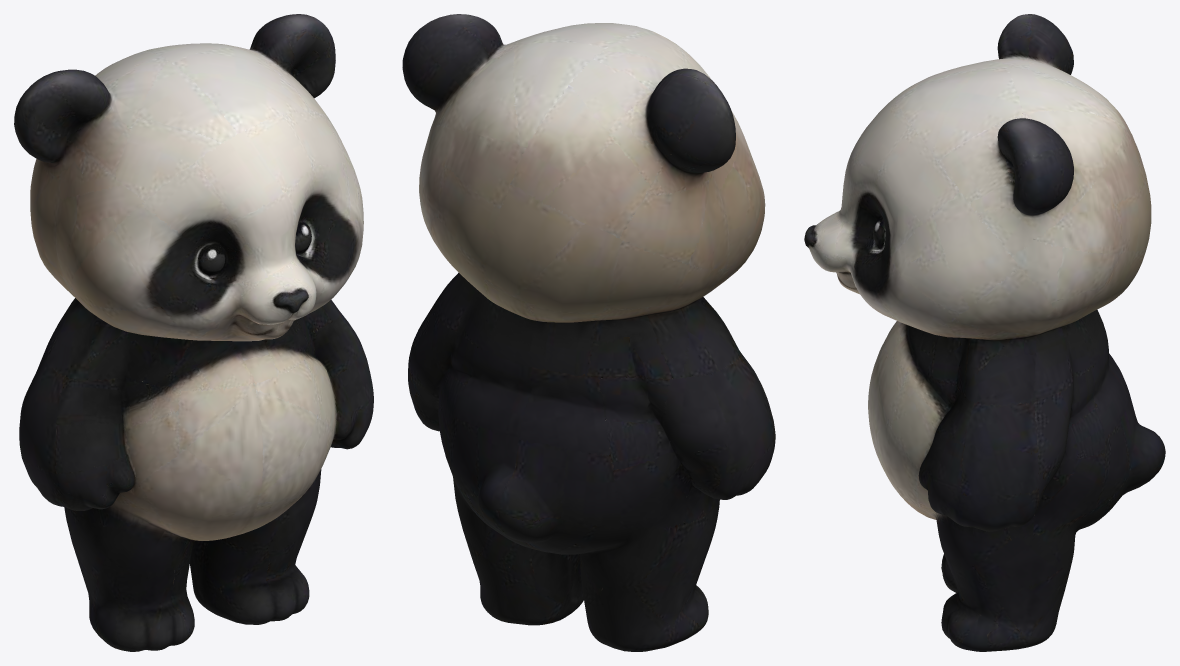
3 views of the same model, side by side, from view 1: azimuth 30°, elevation 25°; view 2: azimuth 150°, elevation 25°; view 3: azimuth 270°, elevation 25° (orthographic). The views are drawn at different scales.
Size of the model in its own units: 1.16 by 1.9 by 1.15.
Materials: 1 (1 with a texture image).
